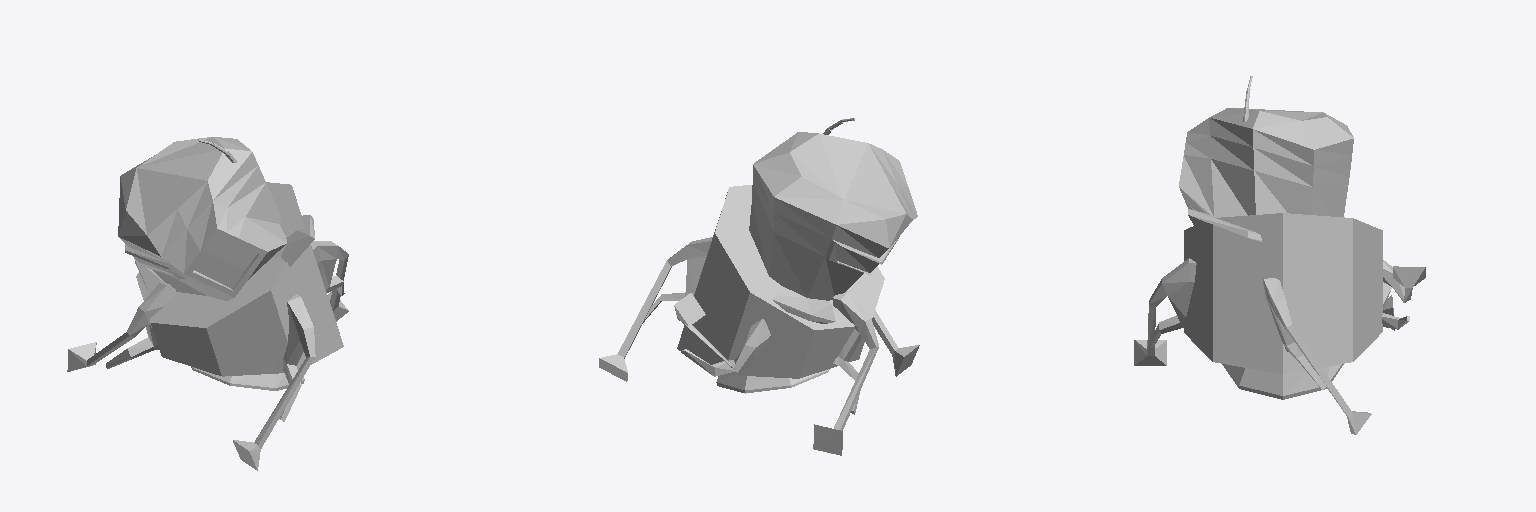
File: LanderDestructed.obj
The picture shows the model from 3 angles: view 1: azimuth 30°, elevation 25°; view 2: azimuth 150°, elevation 25°; view 3: azimuth 270°, elevation 25°; orthographic projection.
Bounding box in the file's own units: 4.74 × 5 × 4.54.